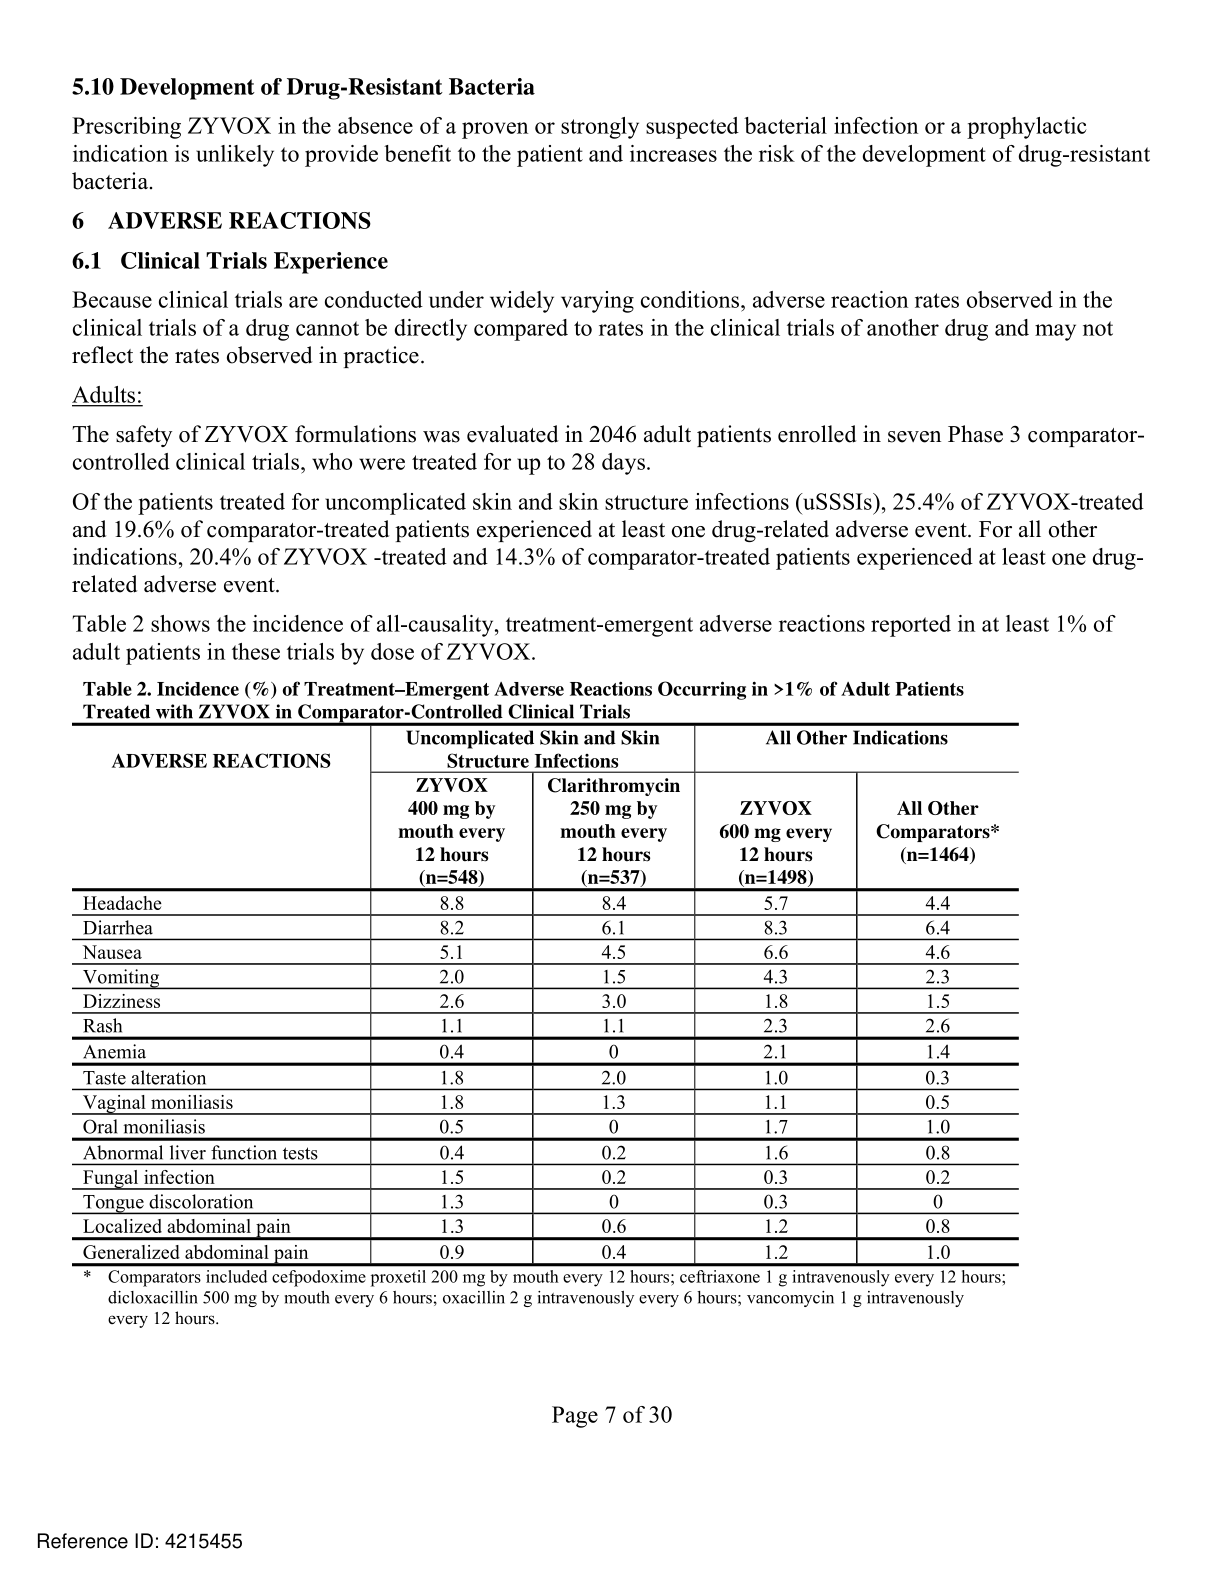partial_lined_merged_cells: (73, 720, 1020, 1266)
